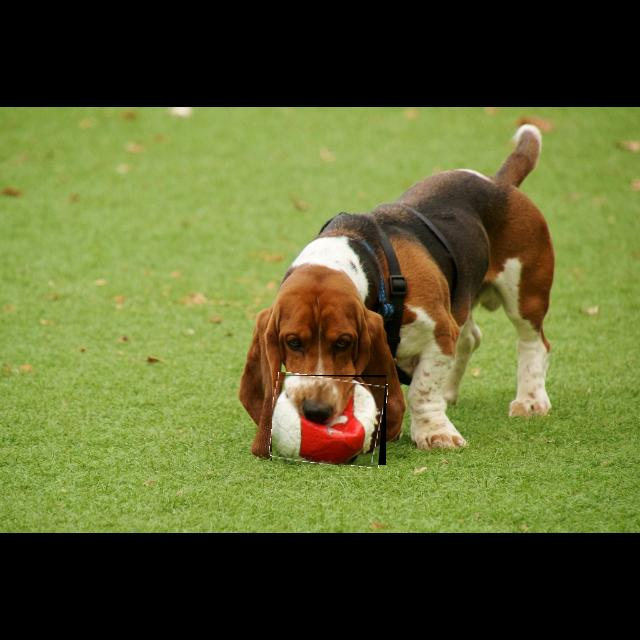Football: (272, 375, 386, 465)
